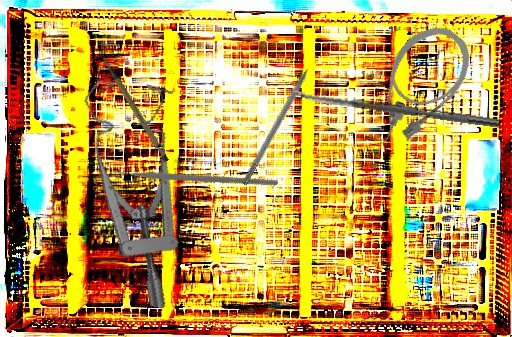Cannula: (347, 13, 485, 159)
Chopper: (103, 93, 280, 252)
Hook Surgical: (241, 51, 321, 187)
Scalpel Handle: (101, 47, 171, 169)
Speculum: (39, 70, 219, 310)
Surgical Spoon: (287, 88, 501, 128)
